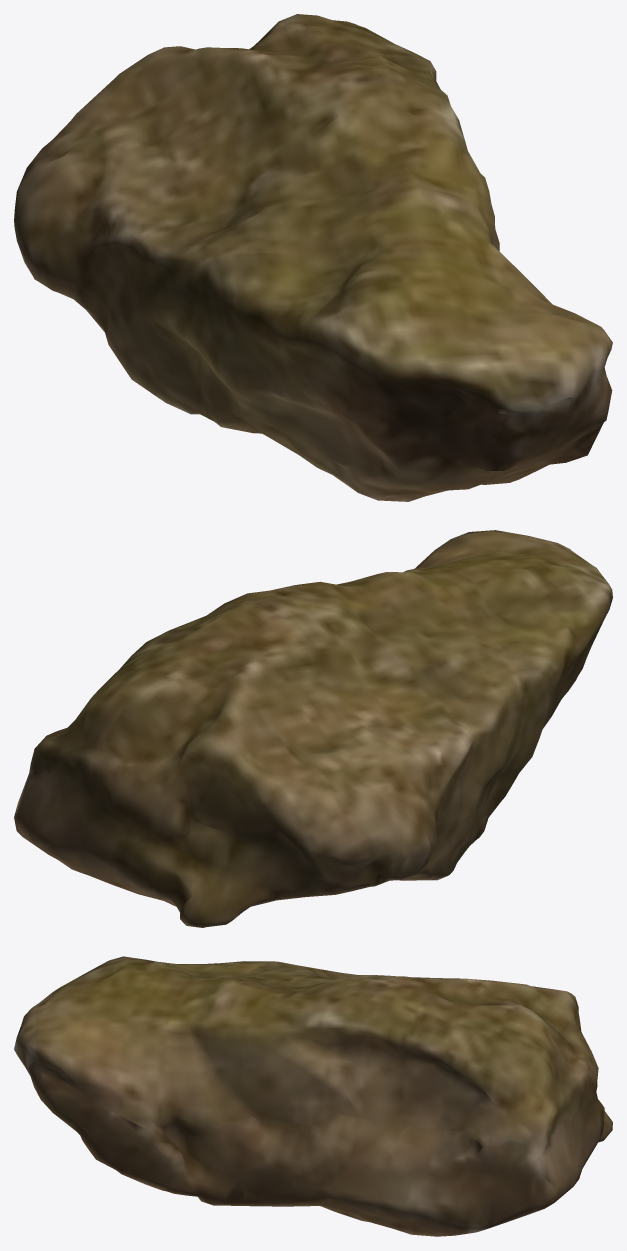
3 renders of one model, top to bottom at view 1: azimuth 30°, elevation 25°; view 2: azimuth 150°, elevation 25°; view 3: azimuth 270°, elevation 25°, orthographic. The views are drawn at different scales.
Parts seen in each view (by area): view 1: rock_moss_set_01__e_lod1; view 2: rock_moss_set_01__e_lod1; view 3: rock_moss_set_01__e_lod1.
Boxes of the visible parts, bbox=[...] form: rock_moss_set_01__e_lod1: bbox=[14, 14, 612, 501]; rock_moss_set_01__e_lod1: bbox=[14, 530, 612, 927]; rock_moss_set_01__e_lod1: bbox=[14, 956, 612, 1236].
Bounding box in the file's own units: 1.81 × 1.2 × 2.99.
Materials: 1 (1 with a texture image).
